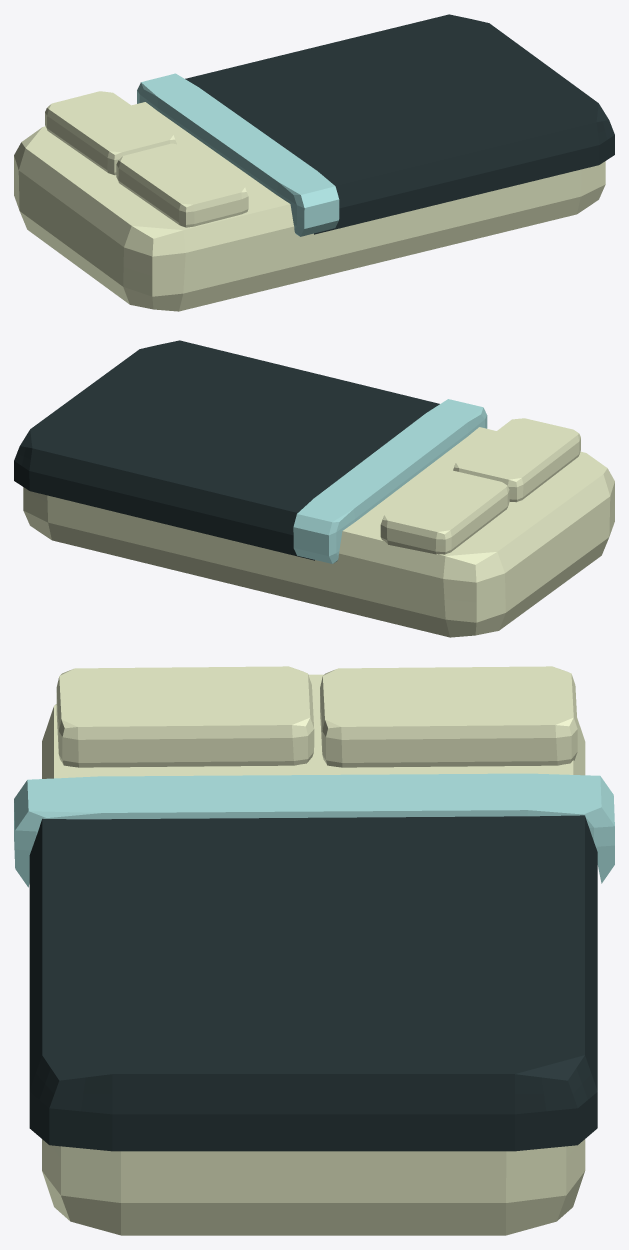
Rendered from Bed.fbx.
3 renders of one model, top to bottom at view 1: azimuth 30°, elevation 25°; view 2: azimuth 150°, elevation 25°; view 3: azimuth 270°, elevation 25°, orthographic. The views are drawn at different scales.
Parts seen in each view (by area): view 1: Cube.001, Cube, Cube.004, Cube.002, Cube.003; view 2: Cube.001, Cube, Cube.004, Cube.003, Cube.002; view 3: Cube.001, Cube, Cube.004, Cube.002, Cube.003.
Boxes of the visible parts, bbox=[...] form: Cube.001: bbox=[185, 14, 614, 234]; Cube: bbox=[14, 102, 605, 311]; Cube.004: bbox=[137, 73, 339, 236]; Cube.002: bbox=[116, 143, 248, 227]; Cube.003: bbox=[45, 91, 176, 175]; Cube.001: bbox=[14, 340, 439, 560]; Cube: bbox=[23, 427, 614, 637]; Cube.004: bbox=[293, 399, 487, 563]; Cube.003: bbox=[380, 470, 509, 554]; Cube.002: bbox=[453, 418, 580, 502]; Cube.001: bbox=[29, 815, 597, 1151]; Cube: bbox=[42, 674, 585, 1235]; Cube.004: bbox=[14, 773, 614, 887]; Cube.002: bbox=[56, 666, 314, 767]; Cube.003: bbox=[320, 666, 577, 767].
Bounding box in the file's own units: 494 × 101 × 293.
